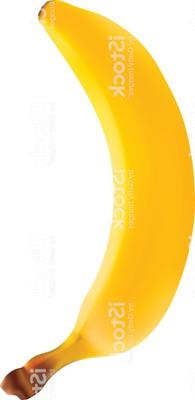banana: (0, 0, 195, 400)
